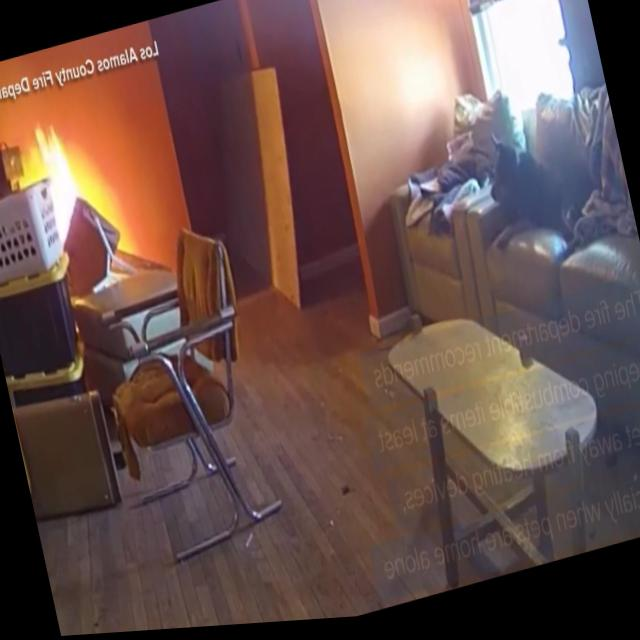fire: (12, 108, 104, 264)
